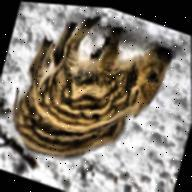boar: (30, 5, 180, 155), (4, 35, 144, 189)
